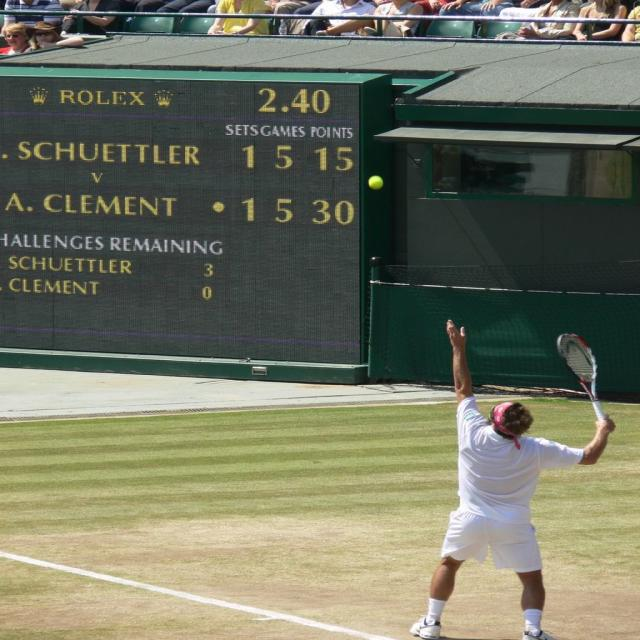ball: (365, 171, 388, 194)
